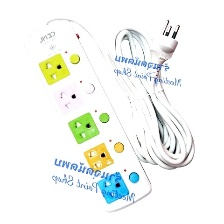three_eye_plug: (20, 14, 154, 214)
